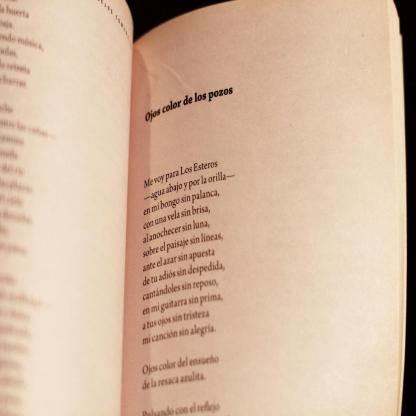book: (0, 0, 405, 416)
